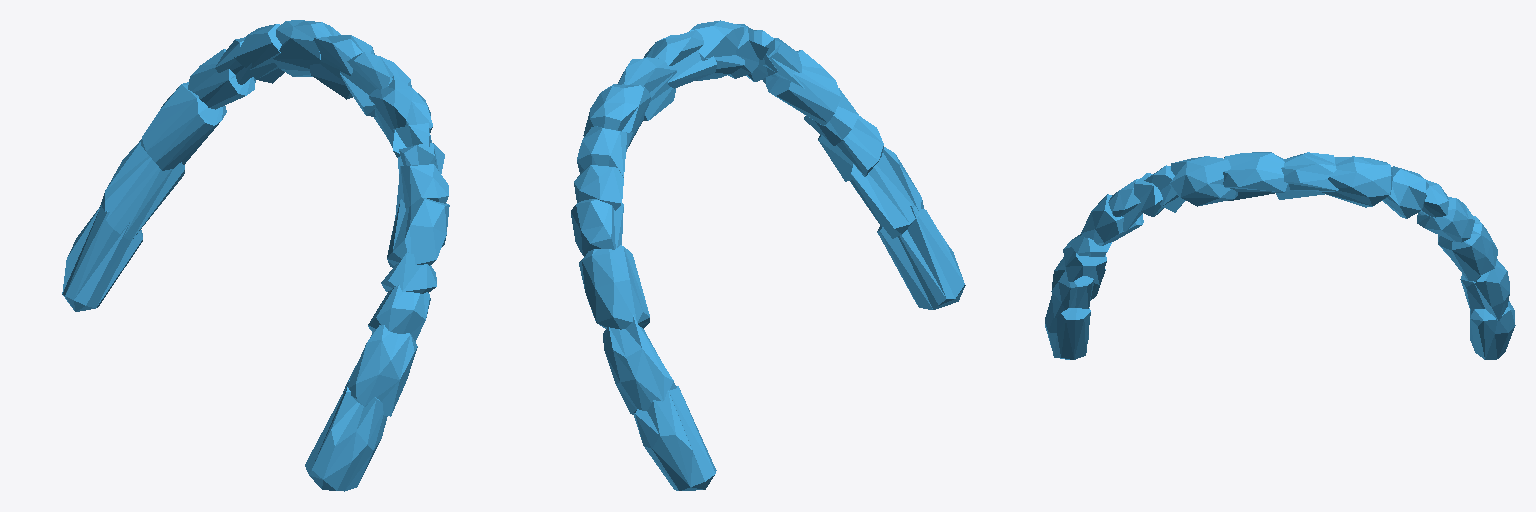
URDF robot description (partnet_uce940367-b7b4-43b9-af12-eae51692f2f7):
<?xml version="1.0" ?><robot name="partnet_uce940367-b7b4-43b9-af12-eae51692f2f7">
	<link name="base"/>
	<link name="link_0">
		<visual>
			<origin xyz="0 -0.3550381301112663 -0.01407460166215898"/>
			<geometry>
				<mesh filename="new_objs/100486_link_0_16.obj"/>
			</geometry>
		</visual>
		<visual>
			<origin xyz="0 -0.3550381301112663 -0.01407460166215898"/>
			<geometry>
				<mesh filename="new_objs/100486_link_0_6.obj"/>
			</geometry>
		</visual>
		<visual>
			<origin xyz="0 -0.3550381301112663 -0.01407460166215898"/>
			<geometry>
				<mesh filename="new_objs/100486_link_0_11.obj"/>
			</geometry>
		</visual>
		<visual>
			<origin xyz="0 -0.3550381301112663 -0.01407460166215898"/>
			<geometry>
				<mesh filename="new_objs/100486_link_0_3.obj"/>
			</geometry>
		</visual>
		<visual>
			<origin xyz="0 -0.3550381301112663 -0.01407460166215898"/>
			<geometry>
				<mesh filename="new_objs/100486_link_0_0.obj"/>
			</geometry>
		</visual>
		<visual>
			<origin xyz="0 -0.3550381301112663 -0.01407460166215898"/>
			<geometry>
				<mesh filename="new_objs/100486_link_0_10.obj"/>
			</geometry>
		</visual>
		<visual>
			<origin xyz="0 -0.3550381301112663 -0.01407460166215898"/>
			<geometry>
				<mesh filename="new_objs/100486_link_0_17.obj"/>
			</geometry>
		</visual>
		<visual>
			<origin xyz="0 -0.3550381301112663 -0.01407460166215898"/>
			<geometry>
				<mesh filename="new_objs/100486_link_0_7.obj"/>
			</geometry>
		</visual>
		<visual>
			<origin xyz="0 -0.3550381301112663 -0.01407460166215898"/>
			<geometry>
				<mesh filename="new_objs/100486_link_0_5.obj"/>
			</geometry>
		</visual>
		<visual>
			<origin xyz="0 -0.3550381301112663 -0.01407460166215898"/>
			<geometry>
				<mesh filename="new_objs/100486_link_0_1.obj"/>
			</geometry>
		</visual>
		<visual>
			<origin xyz="0 -0.3550381301112663 -0.01407460166215898"/>
			<geometry>
				<mesh filename="new_objs/100486_link_0_2.obj"/>
			</geometry>
		</visual>
		<visual>
			<origin xyz="0 -0.3550381301112663 -0.01407460166215898"/>
			<geometry>
				<mesh filename="new_objs/100486_link_0_15.obj"/>
			</geometry>
		</visual>
		<visual>
			<origin xyz="0 -0.3550381301112663 -0.01407460166215898"/>
			<geometry>
				<mesh filename="new_objs/100486_link_0_12.obj"/>
			</geometry>
		</visual>
		<visual>
			<origin xyz="0 -0.3550381301112663 -0.01407460166215898"/>
			<geometry>
				<mesh filename="new_objs/100486_link_0_9.obj"/>
			</geometry>
		</visual>
		<visual>
			<origin xyz="0 -0.3550381301112663 -0.01407460166215898"/>
			<geometry>
				<mesh filename="new_objs/100486_link_0_14.obj"/>
			</geometry>
		</visual>
		<visual>
			<origin xyz="0 -0.3550381301112663 -0.01407460166215898"/>
			<geometry>
				<mesh filename="new_objs/100486_link_0_8.obj"/>
			</geometry>
		</visual>
		<visual>
			<origin xyz="0 -0.3550381301112663 -0.01407460166215898"/>
			<geometry>
				<mesh filename="new_objs/100486_link_0_4.obj"/>
			</geometry>
		</visual>
		<visual>
			<origin xyz="0 -0.3550381301112663 -0.01407460166215898"/>
			<geometry>
				<mesh filename="new_objs/100486_link_0_13.obj"/>
			</geometry>
		</visual>
		
		
		<collision>
			<origin xyz="0 -0.3550381301112663 -0.01407460166215898"/>
			<geometry>
				<mesh filename="new_objs/100486_link_0_16.obj"/>
			</geometry>
		</collision><collision>
			<origin xyz="0 -0.3550381301112663 -0.01407460166215898"/>
			<geometry>
				<mesh filename="new_objs/100486_link_0_6.obj"/>
			</geometry>
		</collision><collision>
			<origin xyz="0 -0.3550381301112663 -0.01407460166215898"/>
			<geometry>
				<mesh filename="new_objs/100486_link_0_11.obj"/>
			</geometry>
		</collision><collision>
			<origin xyz="0 -0.3550381301112663 -0.01407460166215898"/>
			<geometry>
				<mesh filename="new_objs/100486_link_0_3.obj"/>
			</geometry>
		</collision><collision>
			<origin xyz="0 -0.3550381301112663 -0.01407460166215898"/>
			<geometry>
				<mesh filename="new_objs/100486_link_0_0.obj"/>
			</geometry>
		</collision><collision>
			<origin xyz="0 -0.3550381301112663 -0.01407460166215898"/>
			<geometry>
				<mesh filename="new_objs/100486_link_0_10.obj"/>
			</geometry>
		</collision><collision>
			<origin xyz="0 -0.3550381301112663 -0.01407460166215898"/>
			<geometry>
				<mesh filename="new_objs/100486_link_0_17.obj"/>
			</geometry>
		</collision><collision>
			<origin xyz="0 -0.3550381301112663 -0.01407460166215898"/>
			<geometry>
				<mesh filename="new_objs/100486_link_0_7.obj"/>
			</geometry>
		</collision><collision>
			<origin xyz="0 -0.3550381301112663 -0.01407460166215898"/>
			<geometry>
				<mesh filename="new_objs/100486_link_0_5.obj"/>
			</geometry>
		</collision><collision>
			<origin xyz="0 -0.3550381301112663 -0.01407460166215898"/>
			<geometry>
				<mesh filename="new_objs/100486_link_0_1.obj"/>
			</geometry>
		</collision><collision>
			<origin xyz="0 -0.3550381301112663 -0.01407460166215898"/>
			<geometry>
				<mesh filename="new_objs/100486_link_0_2.obj"/>
			</geometry>
		</collision><collision>
			<origin xyz="0 -0.3550381301112663 -0.01407460166215898"/>
			<geometry>
				<mesh filename="new_objs/100486_link_0_15.obj"/>
			</geometry>
		</collision><collision>
			<origin xyz="0 -0.3550381301112663 -0.01407460166215898"/>
			<geometry>
				<mesh filename="new_objs/100486_link_0_12.obj"/>
			</geometry>
		</collision><collision>
			<origin xyz="0 -0.3550381301112663 -0.01407460166215898"/>
			<geometry>
				<mesh filename="new_objs/100486_link_0_9.obj"/>
			</geometry>
		</collision><collision>
			<origin xyz="0 -0.3550381301112663 -0.01407460166215898"/>
			<geometry>
				<mesh filename="new_objs/100486_link_0_14.obj"/>
			</geometry>
		</collision><collision>
			<origin xyz="0 -0.3550381301112663 -0.01407460166215898"/>
			<geometry>
				<mesh filename="new_objs/100486_link_0_8.obj"/>
			</geometry>
		</collision><collision>
			<origin xyz="0 -0.3550381301112663 -0.01407460166215898"/>
			<geometry>
				<mesh filename="new_objs/100486_link_0_4.obj"/>
			</geometry>
		</collision><collision>
			<origin xyz="0 -0.3550381301112663 -0.01407460166215898"/>
			<geometry>
				<mesh filename="new_objs/100486_link_0_13.obj"/>
			</geometry>
		</collision></link>
	<joint name="joint_0" type="revolute">
		<origin xyz="0 0.3550381301112663 0.01407460166215898"/>
		<axis xyz="-1 0 0"/>
		<child link="link_0"/>
		<parent link="link_1"/>
		<limit lower="1.104" upper="4.781504018763666"/>
	</joint>
	<link name="link_1">
		<collision>
			<origin xyz="0 0 0"/>
			<geometry>
				<mesh filename="new_objs/100486_link_1_19.obj"/>
			</geometry>
		</collision>
		<collision>
			<origin xyz="0 0 0"/>
			<geometry>
				<mesh filename="new_objs/100486_link_1_52.obj"/>
			</geometry>
		</collision>
		<collision>
			<origin xyz="0 0 0"/>
			<geometry>
				<mesh filename="new_objs/100486_link_1_9.obj"/>
			</geometry>
		</collision>
		<collision>
			<origin xyz="0 0 0"/>
			<geometry>
				<mesh filename="new_objs/100486_link_1_18.obj"/>
			</geometry>
		</collision>
		<collision>
			<origin xyz="0 0 0"/>
			<geometry>
				<mesh filename="new_objs/100486_link_1_11.obj"/>
			</geometry>
		</collision>
		<collision>
			<origin xyz="0 0 0"/>
			<geometry>
				<mesh filename="new_objs/100486_link_1_28.obj"/>
			</geometry>
		</collision>
		<collision>
			<origin xyz="0 0 0"/>
			<geometry>
				<mesh filename="new_objs/100486_link_1_40.obj"/>
			</geometry>
		</collision>
		<collision>
			<origin xyz="0 0 0"/>
			<geometry>
				<mesh filename="new_objs/100486_link_1_33.obj"/>
			</geometry>
		</collision>
		<collision>
			<origin xyz="0 0 0"/>
			<geometry>
				<mesh filename="new_objs/100486_link_1_2.obj"/>
			</geometry>
		</collision>
		<collision>
			<origin xyz="0 0 0"/>
			<geometry>
				<mesh filename="new_objs/100486_link_1_8.obj"/>
			</geometry>
		</collision>
		<collision>
			<origin xyz="0 0 0"/>
			<geometry>
				<mesh filename="new_objs/100486_link_1_44.obj"/>
			</geometry>
		</collision>
		<collision>
			<origin xyz="0 0 0"/>
			<geometry>
				<mesh filename="new_objs/100486_link_1_41.obj"/>
			</geometry>
		</collision>
		<collision>
			<origin xyz="0 0 0"/>
			<geometry>
				<mesh filename="new_objs/100486_link_1_20.obj"/>
			</geometry>
		</collision>
		<collision>
			<origin xyz="0 0 0"/>
			<geometry>
				<mesh filename="new_objs/100486_link_1_29.obj"/>
			</geometry>
		</collision>
		<collision>
			<origin xyz="0 0 0"/>
			<geometry>
				<mesh filename="new_objs/100486_link_1_58.obj"/>
			</geometry>
		</collision>
		<collision>
			<origin xyz="0 0 0"/>
			<geometry>
				<mesh filename="new_objs/100486_link_1_21.obj"/>
			</geometry>
		</collision>
		<collision>
			<origin xyz="0 0 0"/>
			<geometry>
				<mesh filename="new_objs/100486_link_1_76.obj"/>
			</geometry>
		</collision>
		<collision>
			<origin xyz="0 0 0"/>
			<geometry>
				<mesh filename="new_objs/100486_link_1_67.obj"/>
			</geometry>
		</collision>
		<collision>
			<origin xyz="0 0 0"/>
			<geometry>
				<mesh filename="new_objs/100486_link_1_34.obj"/>
			</geometry>
		</collision>
		<collision>
			<origin xyz="0 0 0"/>
			<geometry>
				<mesh filename="new_objs/100486_link_1_47.obj"/>
			</geometry>
		</collision>
		<collision>
			<origin xyz="0 0 0"/>
			<geometry>
				<mesh filename="new_objs/100486_link_1_31.obj"/>
			</geometry>
		</collision>
		<collision>
			<origin xyz="0 0 0"/>
			<geometry>
				<mesh filename="new_objs/100486_link_1_36.obj"/>
			</geometry>
		</collision>
		<collision>
			<origin xyz="0 0 0"/>
			<geometry>
				<mesh filename="new_objs/100486_link_1_1.obj"/>
			</geometry>
		</collision>
		<collision>
			<origin xyz="0 0 0"/>
			<geometry>
				<mesh filename="new_objs/100486_link_1_48.obj"/>
			</geometry>
		</collision>
		<collision>
			<origin xyz="0 0 0"/>
			<geometry>
				<mesh filename="new_objs/100486_link_1_13.obj"/>
			</geometry>
		</collision>
		<collision>
			<origin xyz="0 0 0"/>
			<geometry>
				<mesh filename="new_objs/100486_link_1_50.obj"/>
			</geometry>
		</collision>
		<collision>
			<origin xyz="0 0 0"/>
			<geometry>
				<mesh filename="new_objs/100486_link_1_65.obj"/>
			</geometry>
		</collision>
		<collision>
			<origin xyz="0 0 0"/>
			<geometry>
				<mesh filename="new_objs/100486_link_1_45.obj"/>
			</geometry>
		</collision>
		<collision>
			<origin xyz="0 0 0"/>
			<geometry>
				<mesh filename="new_objs/100486_link_1_16.obj"/>
			</geometry>
		</collision>
		<collision>
			<origin xyz="0 0 0"/>
			<geometry>
				<mesh filename="new_objs/100486_link_1_38.obj"/>
			</geometry>
		</collision>
		<collision>
			<origin xyz="0 0 0"/>
			<geometry>
				<mesh filename="new_objs/100486_link_1_12.obj"/>
			</geometry>
		</collision>
		<collision>
			<origin xyz="0 0 0"/>
			<geometry>
				<mesh filename="new_objs/100486_link_1_73.obj"/>
			</geometry>
		</collision>
		<collision>
			<origin xyz="0 0 0"/>
			<geometry>
				<mesh filename="new_objs/100486_link_1_53.obj"/>
			</geometry>
		</collision>
		<collision>
			<origin xyz="0 0 0"/>
			<geometry>
				<mesh filename="new_objs/100486_link_1_26.obj"/>
			</geometry>
		</collision>
		<collision>
			<origin xyz="0 0 0"/>
			<geometry>
				<mesh filename="new_objs/100486_link_1_60.obj"/>
			</geometry>
		</collision>
		<collision>
			<origin xyz="0 0 0"/>
			<geometry>
				<mesh filename="new_objs/100486_link_1_71.obj"/>
			</geometry>
		</collision>
		<collision>
			<origin xyz="0 0 0"/>
			<geometry>
				<mesh filename="new_objs/100486_link_1_64.obj"/>
			</geometry>
		</collision>
		<collision>
			<origin xyz="0 0 0"/>
			<geometry>
				<mesh filename="new_objs/100486_link_1_30.obj"/>
			</geometry>
		</collision>
		<collision>
			<origin xyz="0 0 0"/>
			<geometry>
				<mesh filename="new_objs/100486_link_1_63.obj"/>
			</geometry>
		</collision>
		<collision>
			<origin xyz="0 0 0"/>
			<geometry>
				<mesh filename="new_objs/100486_link_1_17.obj"/>
			</geometry>
		</collision>
		<collision>
			<origin xyz="0 0 0"/>
			<geometry>
				<mesh filename="new_objs/100486_link_1_42.obj"/>
			</geometry>
		</collision>
		<collision>
			<origin xyz="0 0 0"/>
			<geometry>
				<mesh filename="new_objs/100486_link_1_56.obj"/>
			</geometry>
		</collision>
		<collision>
			<origin xyz="0 0 0"/>
			<geometry>
				<mesh filename="new_objs/100486_link_1_43.obj"/>
			</geometry>
		</collision>
		<collision>
			<origin xyz="0 0 0"/>
			<geometry>
				<mesh filename="new_objs/100486_link_1_70.obj"/>
			</geometry>
		</collision>
		<collision>
			<origin xyz="0 0 0"/>
			<geometry>
				<mesh filename="new_objs/100486_link_1_25.obj"/>
			</geometry>
		</collision>
		<collision>
			<origin xyz="0 0 0"/>
			<geometry>
				<mesh filename="new_objs/100486_link_1_46.obj"/>
			</geometry>
		</collision>
		<collision>
			<origin xyz="0 0 0"/>
			<geometry>
				<mesh filename="new_objs/100486_link_1_61.obj"/>
			</geometry>
		</collision>
		<collision>
			<origin xyz="0 0 0"/>
			<geometry>
				<mesh filename="new_objs/100486_link_1_57.obj"/>
			</geometry>
		</collision>
		<collision>
			<origin xyz="0 0 0"/>
			<geometry>
				<mesh filename="new_objs/100486_link_1_66.obj"/>
			</geometry>
		</collision>
		<collision>
			<origin xyz="0 0 0"/>
			<geometry>
				<mesh filename="new_objs/100486_link_1_62.obj"/>
			</geometry>
		</collision>
		<collision>
			<origin xyz="0 0 0"/>
			<geometry>
				<mesh filename="new_objs/100486_link_1_6.obj"/>
			</geometry>
		</collision>
		<collision>
			<origin xyz="0 0 0"/>
			<geometry>
				<mesh filename="new_objs/100486_link_1_22.obj"/>
			</geometry>
		</collision>
		<collision>
			<origin xyz="0 0 0"/>
			<geometry>
				<mesh filename="new_objs/100486_link_1_7.obj"/>
			</geometry>
		</collision>
		<collision>
			<origin xyz="0 0 0"/>
			<geometry>
				<mesh filename="new_objs/100486_link_1_54.obj"/>
			</geometry>
		</collision>
		<collision>
			<origin xyz="0 0 0"/>
			<geometry>
				<mesh filename="new_objs/100486_link_1_35.obj"/>
			</geometry>
		</collision>
		<collision>
			<origin xyz="0 0 0"/>
			<geometry>
				<mesh filename="new_objs/100486_link_1_15.obj"/>
			</geometry>
		</collision>
		<collision>
			<origin xyz="0 0 0"/>
			<geometry>
				<mesh filename="new_objs/100486_link_1_72.obj"/>
			</geometry>
		</collision>
		<collision>
			<origin xyz="0 0 0"/>
			<geometry>
				<mesh filename="new_objs/100486_link_1_0.obj"/>
			</geometry>
		</collision>
		<collision>
			<origin xyz="0 0 0"/>
			<geometry>
				<mesh filename="new_objs/100486_link_1_4.obj"/>
			</geometry>
		</collision>
		<collision>
			<origin xyz="0 0 0"/>
			<geometry>
				<mesh filename="new_objs/100486_link_1_39.obj"/>
			</geometry>
		</collision>
		<collision>
			<origin xyz="0 0 0"/>
			<geometry>
				<mesh filename="new_objs/100486_link_1_74.obj"/>
			</geometry>
		</collision>
		<collision>
			<origin xyz="0 0 0"/>
			<geometry>
				<mesh filename="new_objs/100486_link_1_10.obj"/>
			</geometry>
		</collision>
		<collision>
			<origin xyz="0 0 0"/>
			<geometry>
				<mesh filename="new_objs/100486_link_1_68.obj"/>
			</geometry>
		</collision>
		<collision>
			<origin xyz="0 0 0"/>
			<geometry>
				<mesh filename="new_objs/100486_link_1_59.obj"/>
			</geometry>
		</collision>
		<collision>
			<origin xyz="0 0 0"/>
			<geometry>
				<mesh filename="new_objs/100486_link_1_55.obj"/>
			</geometry>
		</collision>
		<collision>
			<origin xyz="0 0 0"/>
			<geometry>
				<mesh filename="new_objs/100486_link_1_3.obj"/>
			</geometry>
		</collision>
		<collision>
			<origin xyz="0 0 0"/>
			<geometry>
				<mesh filename="new_objs/100486_link_1_32.obj"/>
			</geometry>
		</collision>
		<collision>
			<origin xyz="0 0 0"/>
			<geometry>
				<mesh filename="new_objs/100486_link_1_51.obj"/>
			</geometry>
		</collision>
		<collision>
			<origin xyz="0 0 0"/>
			<geometry>
				<mesh filename="new_objs/100486_link_1_23.obj"/>
			</geometry>
		</collision>
		<collision>
			<origin xyz="0 0 0"/>
			<geometry>
				<mesh filename="new_objs/100486_link_1_69.obj"/>
			</geometry>
		</collision>
		<collision>
			<origin xyz="0 0 0"/>
			<geometry>
				<mesh filename="new_objs/100486_link_1_37.obj"/>
			</geometry>
		</collision>
		<collision>
			<origin xyz="0 0 0"/>
			<geometry>
				<mesh filename="new_objs/100486_link_1_49.obj"/>
			</geometry>
		</collision>
		<collision>
			<origin xyz="0 0 0"/>
			<geometry>
				<mesh filename="new_objs/100486_link_1_24.obj"/>
			</geometry>
		</collision>
		<collision>
			<origin xyz="0 0 0"/>
			<geometry>
				<mesh filename="new_objs/100486_link_1_75.obj"/>
			</geometry>
		</collision>
		<collision>
			<origin xyz="0 0 0"/>
			<geometry>
				<mesh filename="new_objs/100486_link_1_14.obj"/>
			</geometry>
		</collision>
		<collision>
			<origin xyz="0 0 0"/>
			<geometry>
				<mesh filename="new_objs/100486_link_1_5.obj"/>
			</geometry>
		</collision>
		<collision>
			<origin xyz="0 0 0"/>
			<geometry>
				<mesh filename="new_objs/100486_link_1_27.obj"/>
			</geometry>
		</collision>
		<visual name="base_body-part[&quot;id]">
			<origin xyz="0 0 0"/>
			<geometry>
				<mesh filename="textured_objs/original-3.obj"/>
			</geometry>
		</visual>
		<visual name="base_body-part[&quot;id]">
			<origin xyz="0 0 0"/>
			<geometry>
				<mesh filename="textured_objs/original-2.obj"/>
			</geometry>
		</visual>
		<visual name="base_body-part[&quot;id]">
			<origin xyz="0 0 0"/>
			<geometry>
				<mesh filename="textured_objs/original-8.obj"/>
			</geometry>
		</visual>
		<visual name="base_body-part[&quot;id]">
			<origin xyz="0 0 0"/>
			<geometry>
				<mesh filename="textured_objs/original-5.obj"/>
			</geometry>
		</visual>
		<visual name="base_body-part[&quot;id]">
			<origin xyz="0 0 0"/>
			<geometry>
				<mesh filename="textured_objs/original-11.obj"/>
			</geometry>
		</visual>
		<visual name="base_body-part[&quot;id]">
			<origin xyz="0 0 0"/>
			<geometry>
				<mesh filename="textured_objs/original-12.obj"/>
			</geometry>
		</visual>
		<visual name="base_body-part[&quot;id]">
			<origin xyz="0 0 0"/>
			<geometry>
				<mesh filename="textured_objs/original-7.obj"/>
			</geometry>
		</visual>
		</link>
	<joint name="joint_1" type="fixed">
		<origin rpy="1.570796326794897 0 -1.570796326794897" xyz="0 0 0"/>
		<child link="link_1"/>
		<parent link="base"/>
	</joint>
</robot>

--- Render facts (derived) ---
The picture shows the robot from 3 angles, left to right: view 1: azimuth 30°, elevation 25°; view 2: azimuth 150°, elevation 25°; view 3: azimuth 270°, elevation 25°; orthographic projection.
Model partnet_uce940367-b7b4-43b9-af12-eae51692f2f7 with 3 links and 2 joints (1 revolute, 1 fixed), rooted at base, posed joints at zero except 1 at the middle of their limits (joint_0 = 2.94).
Links seen in each view (by area): view 1: link_0; view 2: link_0; view 3: link_0.
Link boxes in pixels (left/top/right/bottom): link_0: left=62, top=20, right=449, bottom=491; link_0: left=571, top=20, right=965, bottom=490; link_0: left=1045, top=152, right=1515, bottom=359.
Bounding box of the posed robot: 0.5711 × 1.36 × 0.8495 m (x, y, z).
Meshes: 25 distinct files referenced, 18 mesh visuals loaded (18 OBJ); not drawn: 7 (reference not matched to a file when rendering).
